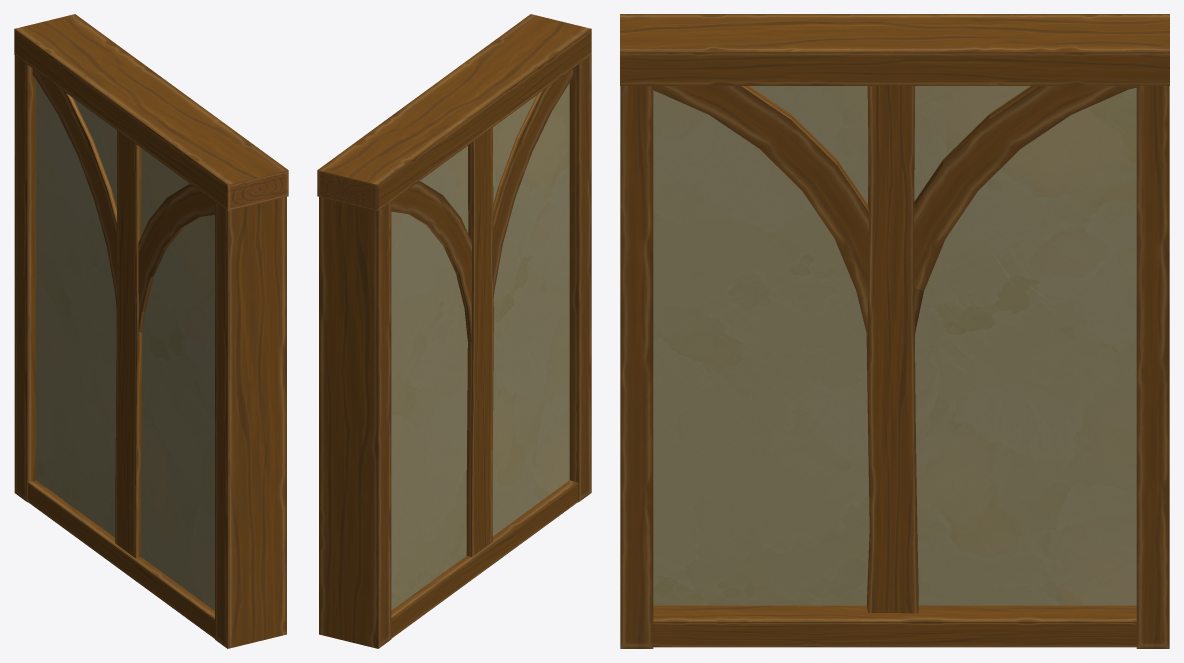
Rendered from SM_House_Roof_01_WallMiddle_A_01.fbx.
3 renders of one model, left to right at view 1: azimuth 30°, elevation 25°; view 2: azimuth 150°, elevation 25°; view 3: azimuth 270°, elevation 25°, orthographic. The views are drawn at different scales.
Visible parts, largest first — view 1: SM_House_Roof_01_WallMiddle_A_01; view 2: SM_House_Roof_01_WallMiddle_A_01; view 3: SM_House_Roof_01_WallMiddle_A_01.
Boxes of the visible parts, x1,y1,x2,y2 form: SM_House_Roof_01_WallMiddle_A_01: (14,14,288,648); SM_House_Roof_01_WallMiddle_A_01: (317,14,591,648); SM_House_Roof_01_WallMiddle_A_01: (620,14,1169,648).
Size of the model in its own units: 0.4117 by 3 by 2.5.
